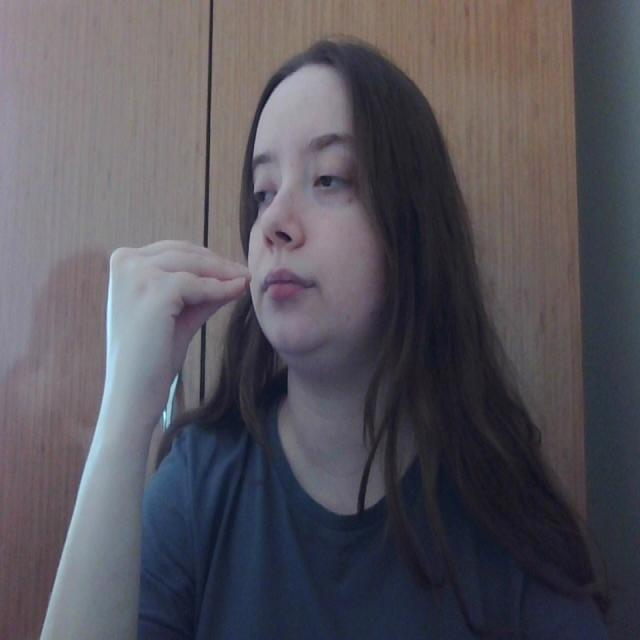Yemek: (96, 230, 306, 321)
